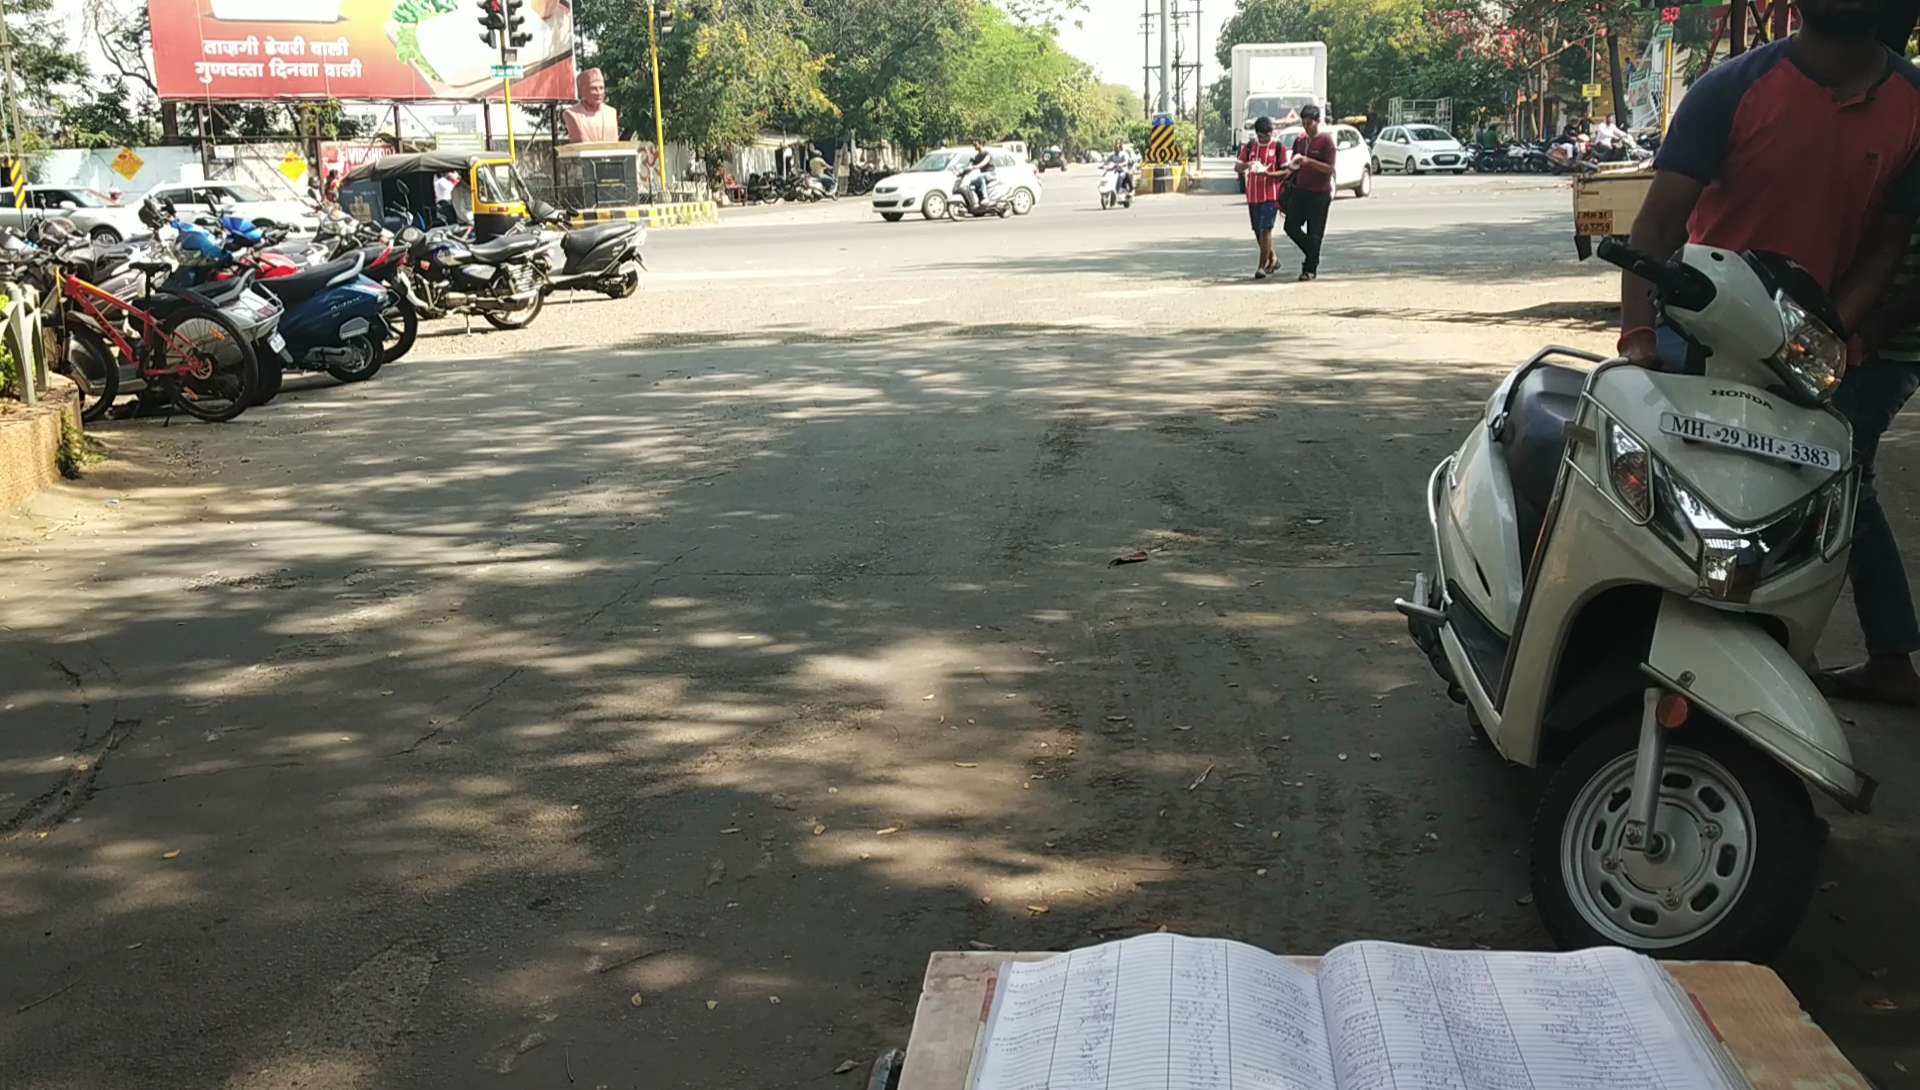car: (1412, 191, 1896, 981)
numplate: (1654, 391, 1863, 493)
